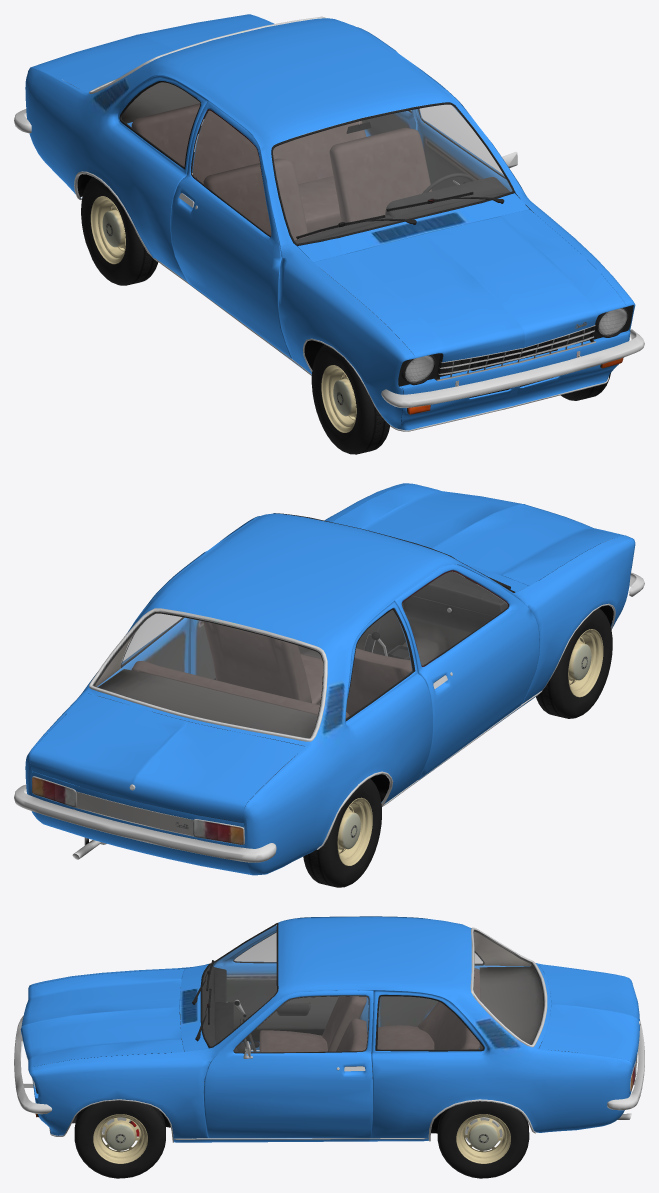
Rendered from chevette_sl76.glb.
The picture shows the model from 3 angles, top to bottom: view 1: azimuth 30°, elevation 25°; view 2: azimuth 150°, elevation 25°; view 3: azimuth 270°, elevation 25°; orthographic projection. The views are drawn at different scales.
Parts seen in each view (by area): view 1: Body_ChevetteSL76_ChevetteMaterialLataria_0, ParabrisaeVidros_Vidros_0, Box060_Bancos_0, object 2, Pneu_D_Front_Pneu_0, PecasInternas_PainelEacessorios_0, Pneu_D_Back_Pneu_0, AssoalhoECarpet_CarpetEAssoalho_0, Pneu_D_Back_Rodas_0, Pneu_D_Front_Rodas_0, object 3; view 2: Body_ChevetteSL76_ChevetteMaterialLataria_0, ParabrisaeVidros_Vidros_0, object 2, Box060_Bancos_0, AssoalhoECarpet_CarpetEAssoalho_0, PecasInternas_PainelEacessorios_0, Pneu_D_Front_Pneu_0, Pneu_D_Back_Pneu_0, Pneu_D_Back_Rodas_0, Pneu_D_Front_Rodas_0, object 4; view 3: Body_ChevetteSL76_ChevetteMaterialLataria_0, ParabrisaeVidros_Vidros_0, object 2, Box060_Bancos_0, AssoalhoECarpet_CarpetEAssoalho_0, Pneu_E_Front_Pneu_0, Pneu_E_Back_Pneu_0, PecasInternas_PainelEacessorios_0, Pneu_E_Front_Rodas_0, Pneu_E_Back_Rodas_0.
Part boxes in pixels (x1,y1,x2,y2): Body_ChevetteSL76_ChevetteMaterialLataria_0: (25, 14, 635, 430); ParabrisaeVidros_Vidros_0: (119, 71, 512, 243); Box060_Bancos_0: (131, 103, 431, 240); object 2: (14, 16, 644, 431); Pneu_D_Front_Pneu_0: (311, 344, 389, 454); PecasInternas_PainelEacessorios_0: (196, 121, 519, 243); Pneu_D_Back_Pneu_0: (81, 177, 158, 285); AssoalhoECarpet_CarpetEAssoalho_0: (77, 82, 590, 424); Pneu_D_Back_Rodas_0: (90, 196, 125, 264); Pneu_D_Front_Rodas_0: (321, 365, 356, 432); object 3: (405, 308, 626, 381); Body_ChevetteSL76_ChevetteMaterialLataria_0: (25, 483, 635, 875); ParabrisaeVidros_Vidros_0: (94, 572, 507, 737); object 2: (14, 513, 644, 862); Box060_Bancos_0: (131, 621, 411, 782); AssoalhoECarpet_CarpetEAssoalho_0: (90, 596, 613, 844); PecasInternas_PainelEacessorios_0: (364, 571, 507, 664); Pneu_D_Front_Pneu_0: (536, 608, 612, 718); Pneu_D_Back_Pneu_0: (303, 778, 381, 887); Pneu_D_Back_Rodas_0: (337, 797, 372, 865); Pneu_D_Front_Rodas_0: (568, 629, 603, 697); object 4: (32, 777, 243, 844); Body_ChevetteSL76_ChevetteMaterialLataria_0: (20, 916, 639, 1142); ParabrisaeVidros_Vidros_0: (202, 924, 543, 1052); object 2: (14, 923, 644, 1142); Box060_Bancos_0: (259, 968, 480, 1078); AssoalhoECarpet_CarpetEAssoalho_0: (53, 924, 577, 1133); Pneu_E_Front_Pneu_0: (74, 1100, 165, 1178); Pneu_E_Back_Pneu_0: (437, 1101, 529, 1178); PecasInternas_PainelEacessorios_0: (202, 965, 310, 1081); Pneu_E_Front_Rodas_0: (93, 1114, 147, 1163); Pneu_E_Back_Rodas_0: (456, 1114, 510, 1163).
Bounding box in the file's own units: 1.61 × 1.35 × 4.12.
12 materials, 9 textured.
